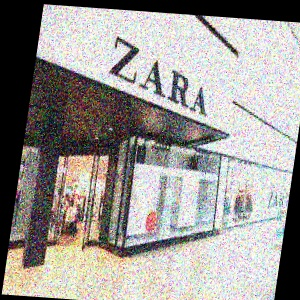zara: (33, 91, 300, 279), (185, 85, 262, 110)
